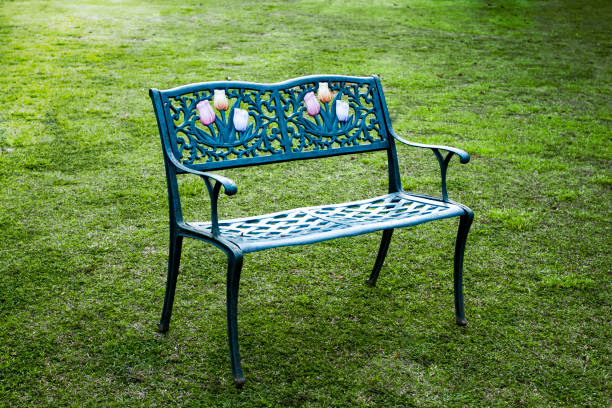bench: (147, 72, 482, 396)
